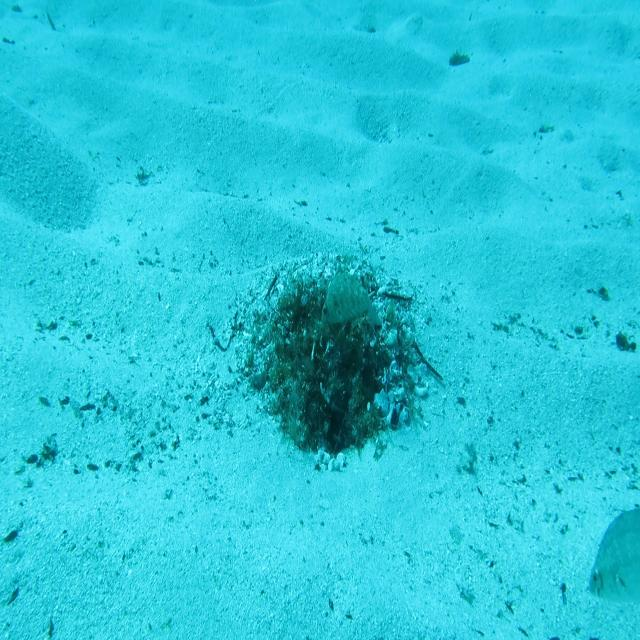INSF: (319, 266, 382, 330)
core_nest: (304, 301, 350, 346)
female: (586, 502, 640, 610)
nest: (226, 249, 436, 479)
vegetation: (448, 49, 471, 70)
